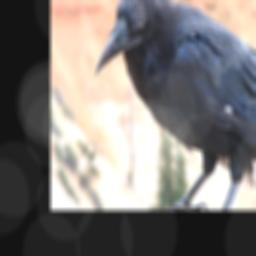Crow: (95, 0, 256, 210)
